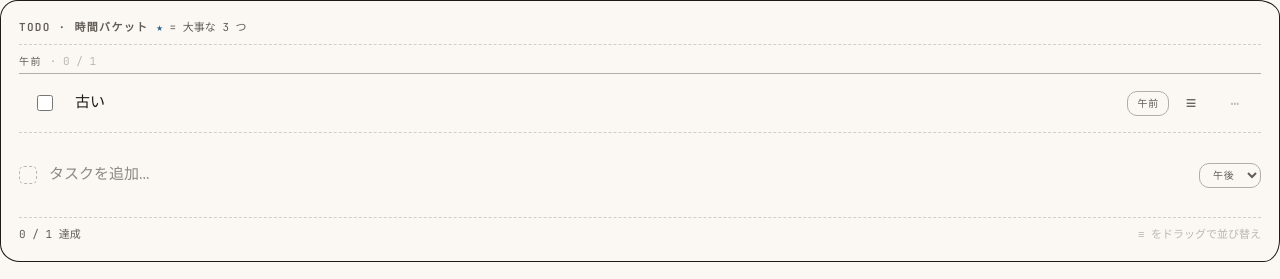
TodoCard › 編集 → Enter で updateTodo が呼ばれ、新しいテキストが UI に反映される
This screenshot has width=1280, height=279.
Click the button with aria-label "古い を編集": (90, 102) [75,92,1119,114]
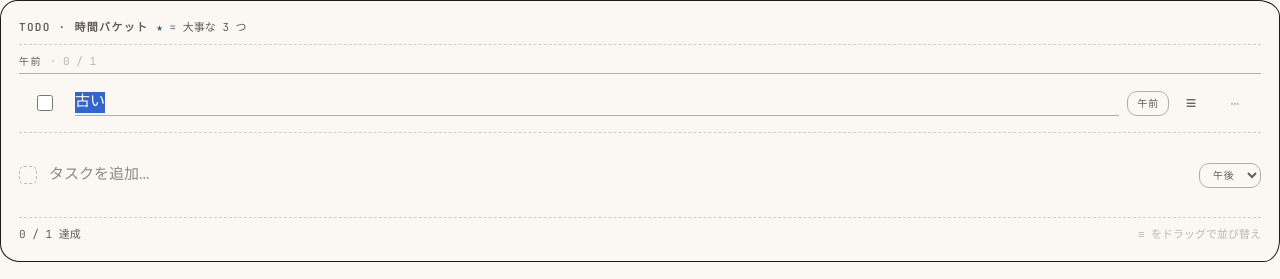
Replace the text in the field named "タスク本文を編集" with "新しい": (597, 103) [75,90,1119,116]
Then press Enter
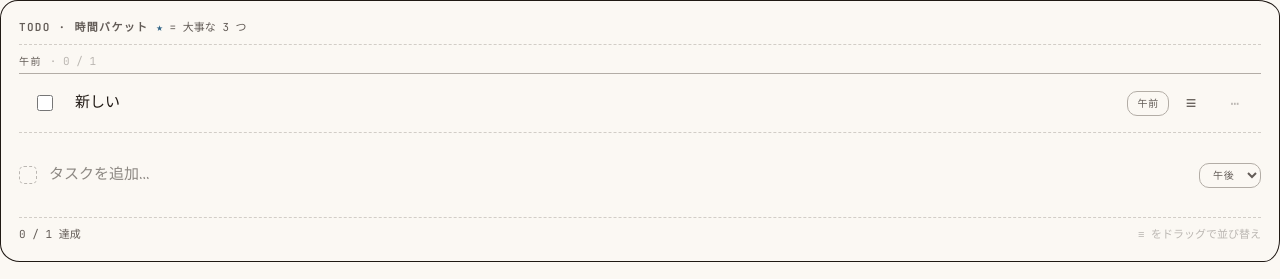
Check: the button with aria-label "新しい を編集" is shown, box [75,92,1119,114]
